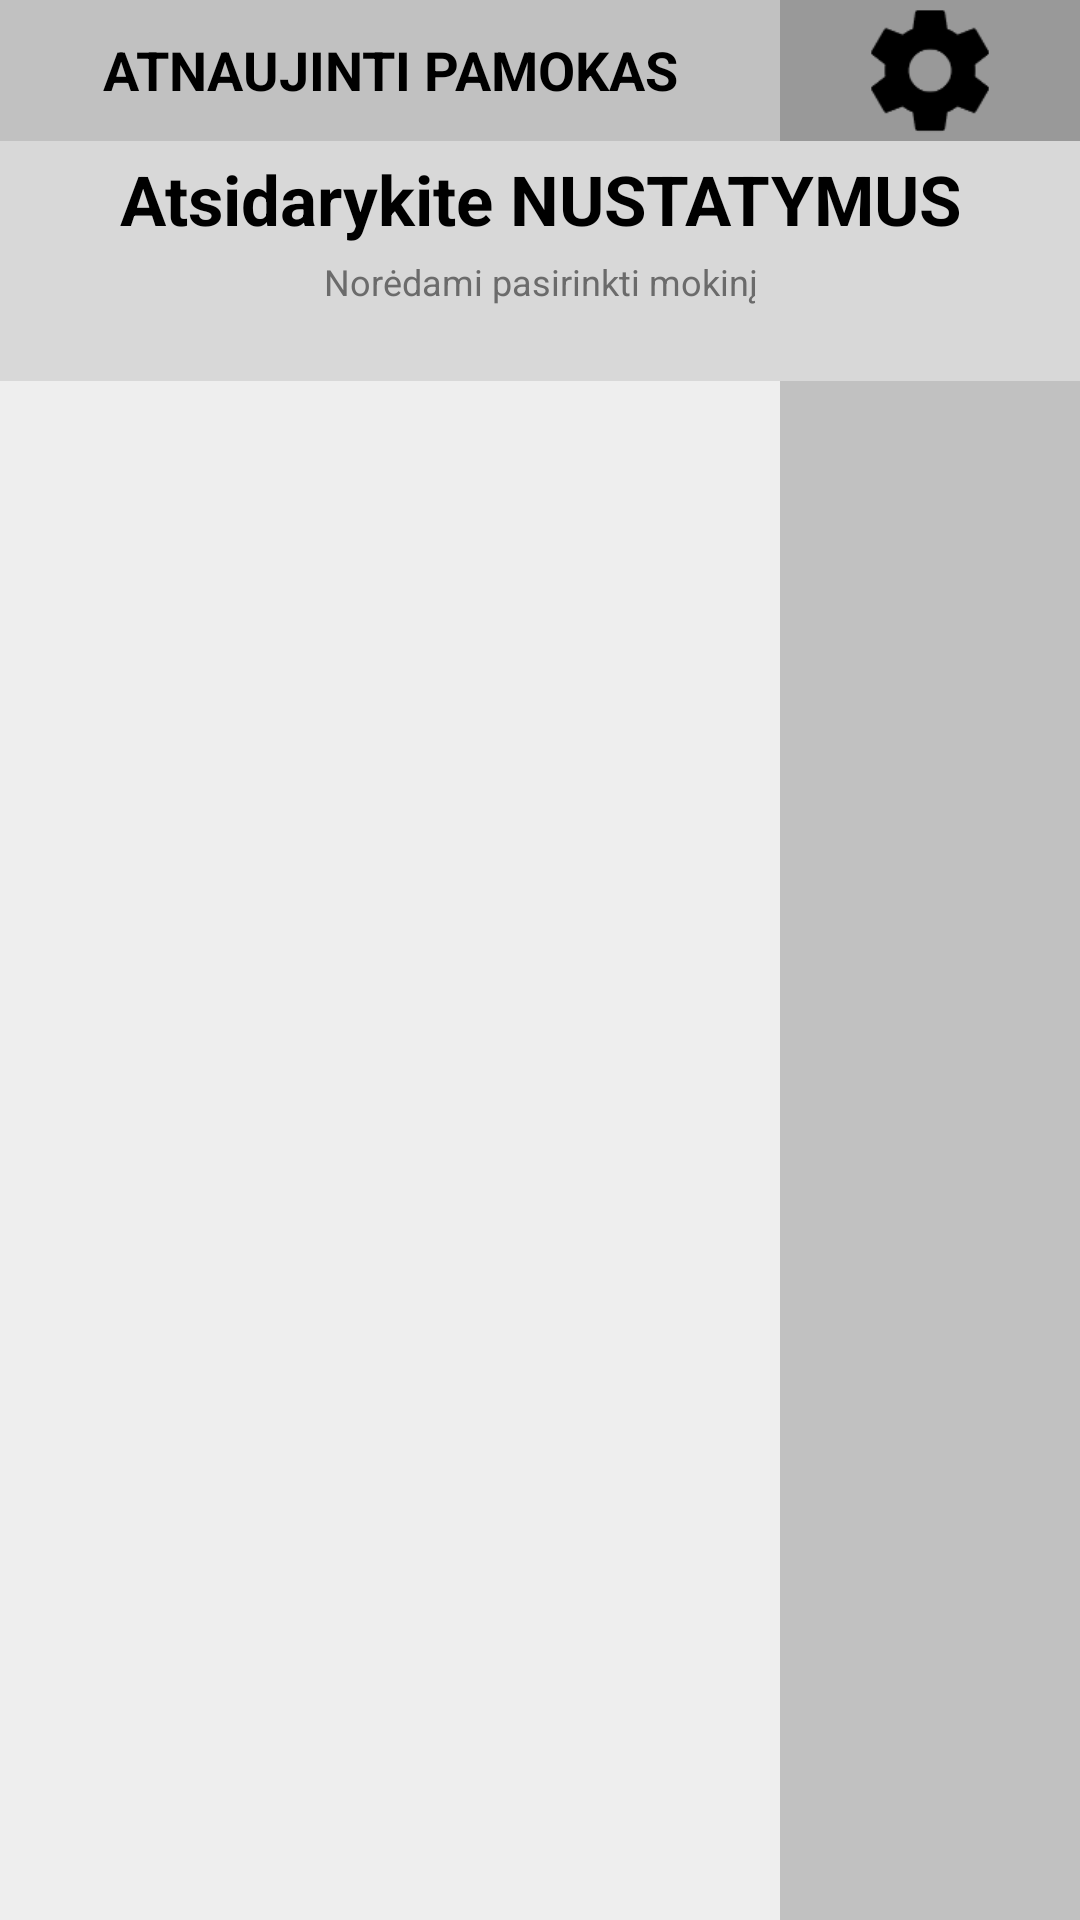

Point at icon controls on the screen. Image size 1080px x 1920px, points as [x,y].
settings: [930,70]
